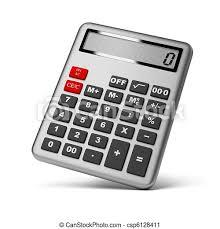Calculator: (30, 12, 197, 193)
